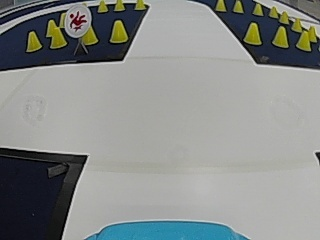cone: (109, 19, 128, 43), (243, 22, 261, 45), (48, 25, 65, 48), (272, 26, 288, 48), (25, 30, 40, 51), (296, 30, 310, 51), (82, 27, 98, 45), (252, 2, 263, 16), (291, 17, 302, 31), (279, 9, 288, 24), (114, 0, 125, 12), (215, 0, 226, 12), (97, 0, 107, 13), (269, 5, 278, 19), (233, 1, 243, 13), (135, 0, 145, 10)
tumble: (66, 6, 90, 33)
